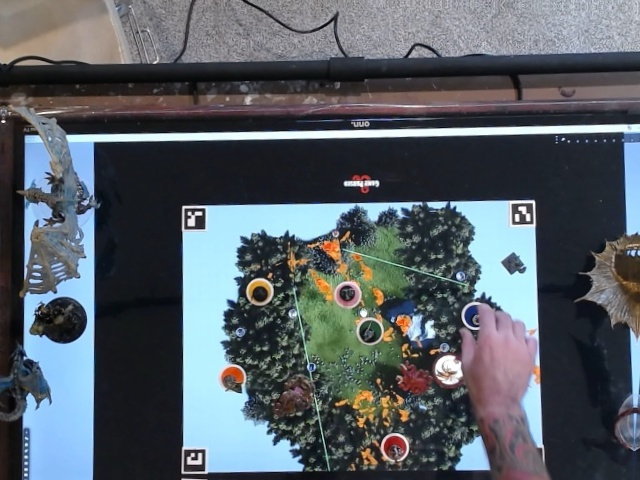blue: (457, 299, 492, 331)
green: (350, 314, 385, 349)
orange: (217, 359, 255, 395)
pink: (330, 278, 363, 310)
red: (377, 427, 412, 464)
yellow: (241, 274, 275, 306)
